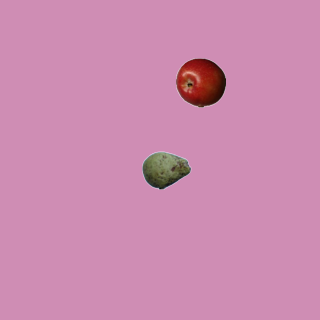Apple Braeburn: (175, 57, 225, 107)
Pear Stone: (141, 145, 191, 195)
